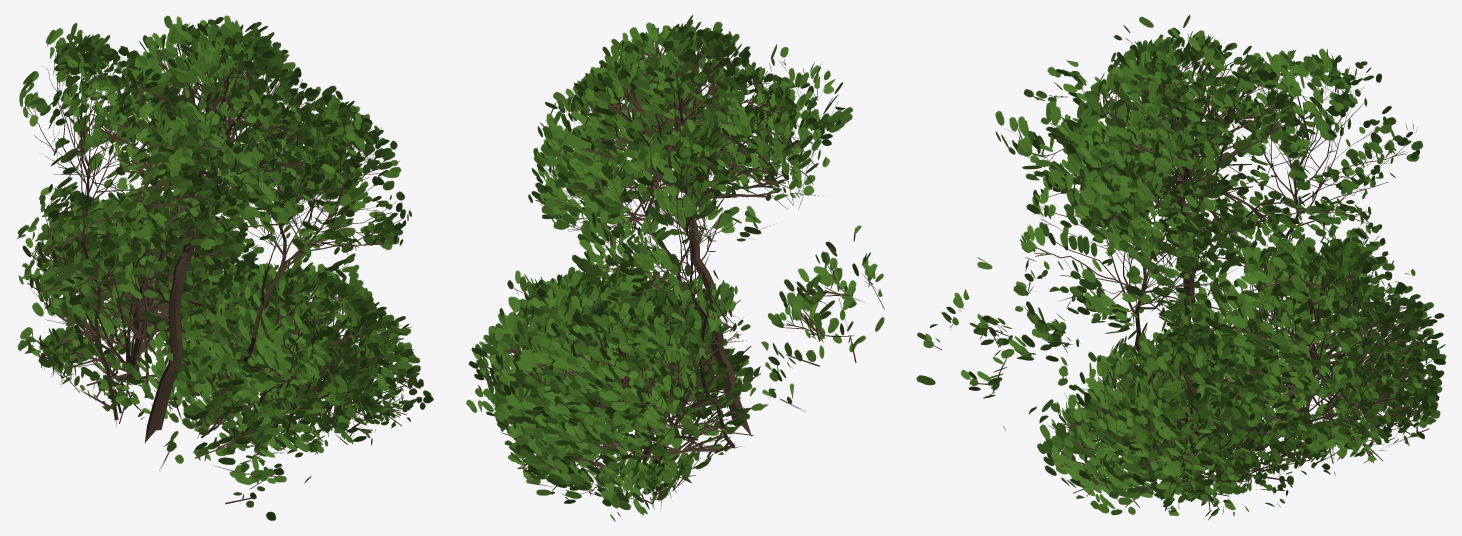
3 views of the same model, side by side, from view 1: azimuth 30°, elevation 25°; view 2: azimuth 150°, elevation 25°; view 3: azimuth 270°, elevation 25° (orthographic).
Parts seen in each view (by area): view 1: oak 01.001_trunk_Mat.001_0.386; view 2: oak 01.001_trunk_Mat.001_0.386; view 3: oak 01.001_trunk_Mat.001_0.386.
Boxes of the visible parts, left/top/right/bottom form: oak 01.001_trunk_Mat.001_0.386: left=17, top=15, right=433, bottom=520; oak 01.001_trunk_Mat.001_0.386: left=466, top=15, right=884, bottom=521; oak 01.001_trunk_Mat.001_0.386: left=916, top=15, right=1446, bottom=519.
Size of the model in its own units: 2.76 by 3.71 by 4.28.
2 materials, 1 textured.
